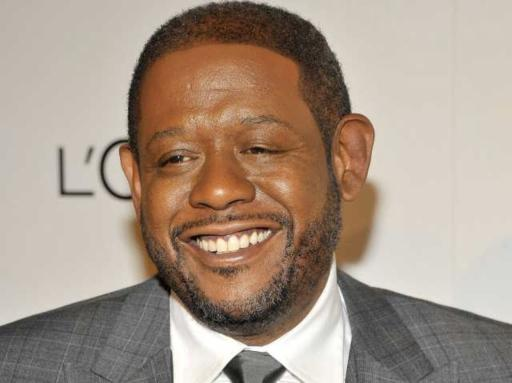left_eye: (239, 145, 288, 159)
left_lip_corner: (265, 220, 287, 237)
right_eye: (159, 152, 200, 169)
right_lip_corner: (178, 231, 195, 249)
